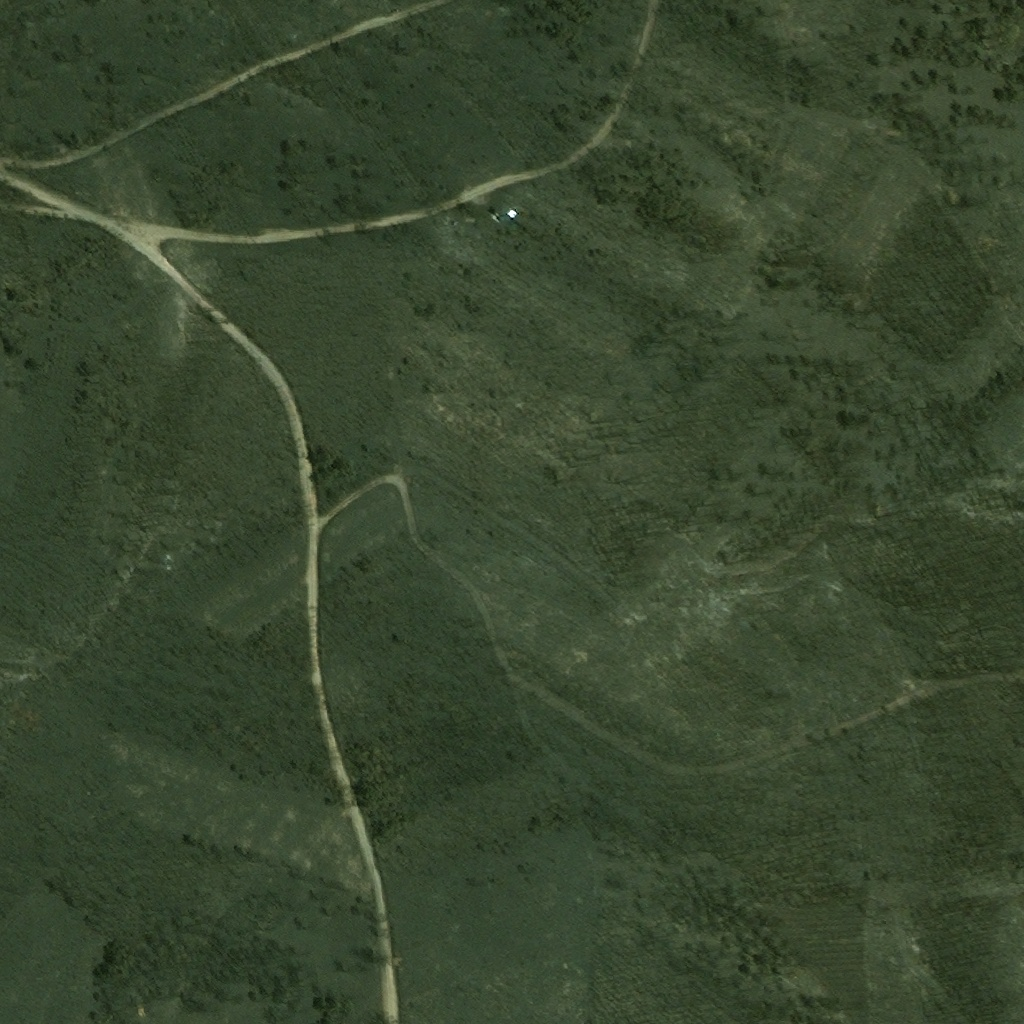0 no-damage: (505, 206, 519, 219)
